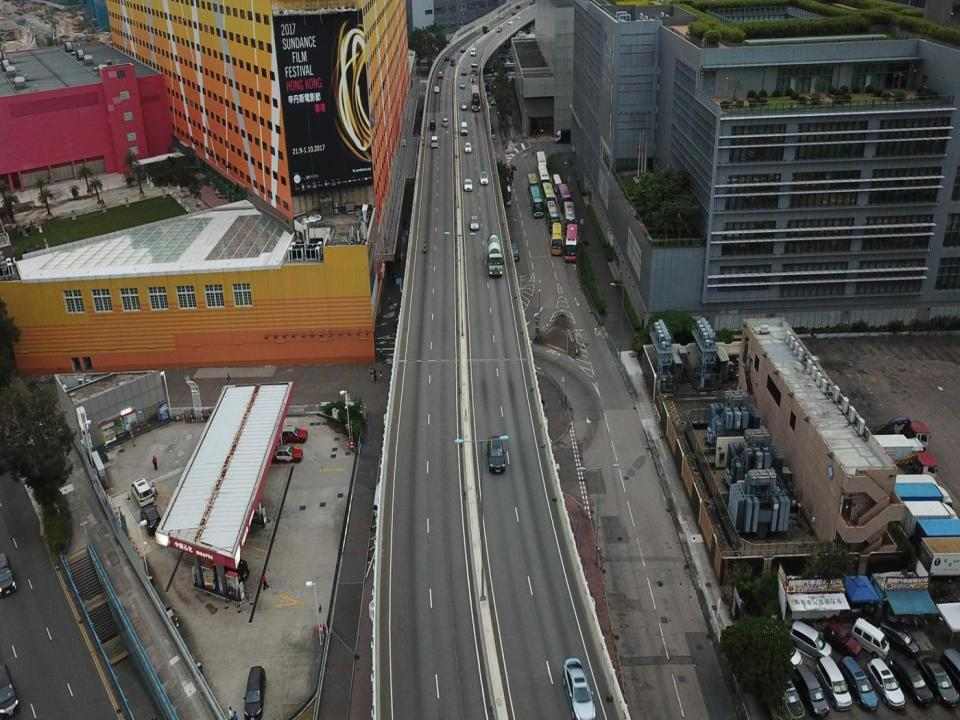bus: (563, 223, 580, 263), (528, 184, 544, 219), (556, 182, 572, 216), (541, 179, 556, 214), (549, 220, 563, 257), (562, 198, 576, 235), (547, 199, 560, 232), (537, 161, 550, 191), (526, 172, 539, 195), (536, 148, 547, 175), (470, 84, 480, 112), (550, 173, 562, 195)
car: (916, 650, 958, 711), (889, 652, 934, 706), (864, 655, 906, 711), (838, 653, 877, 710), (562, 655, 597, 718), (879, 614, 922, 660), (795, 662, 830, 717), (818, 655, 852, 711), (790, 616, 832, 660), (823, 617, 860, 658), (775, 667, 804, 719), (242, 663, 267, 719), (0, 660, 20, 718), (140, 502, 163, 536), (0, 552, 17, 598), (487, 433, 506, 474), (267, 443, 301, 465), (273, 424, 309, 444), (130, 477, 152, 505), (509, 242, 522, 264), (479, 170, 489, 186), (469, 216, 479, 231), (429, 133, 439, 148), (428, 118, 437, 131), (464, 178, 472, 192), (460, 99, 468, 110), (441, 116, 448, 128), (464, 142, 472, 152), (470, 46, 477, 56), (469, 73, 476, 82), (433, 84, 440, 92), (514, 14, 522, 21), (444, 53, 450, 62), (508, 18, 515, 25), (459, 80, 465, 88), (437, 70, 443, 78), (496, 26, 502, 34), (461, 68, 466, 75), (450, 58, 454, 66), (460, 46, 466, 51)
truck: (485, 231, 504, 277), (553, 128, 576, 145), (481, 24, 491, 34)
van: (852, 615, 889, 661), (497, 172, 512, 204), (460, 119, 468, 136)
